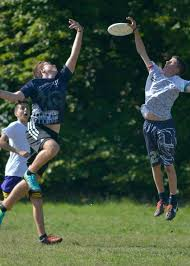disc: (106, 20, 133, 38)
